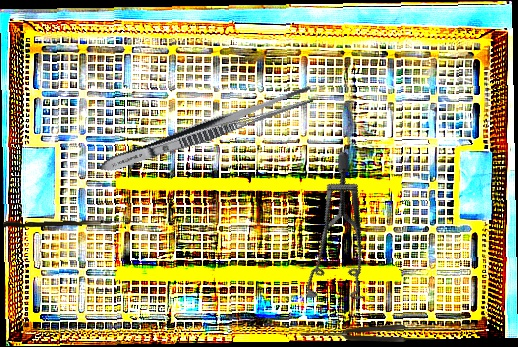Dressing Forceps: (96, 81, 318, 180)
Hook Surgical: (2, 214, 143, 230)
Speculum: (257, 148, 428, 326)
Tissue Forceps: (301, 325, 435, 342)
